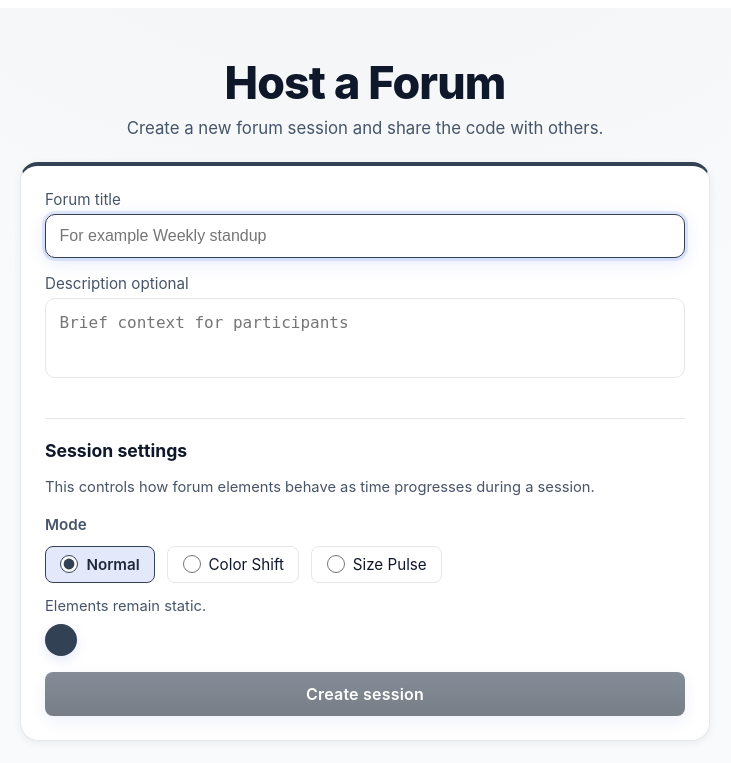
Scenario: Host Page › updates mode description when selecting modes
Click the radio button showing "colorShift": (192, 564) [182, 555, 200, 573]
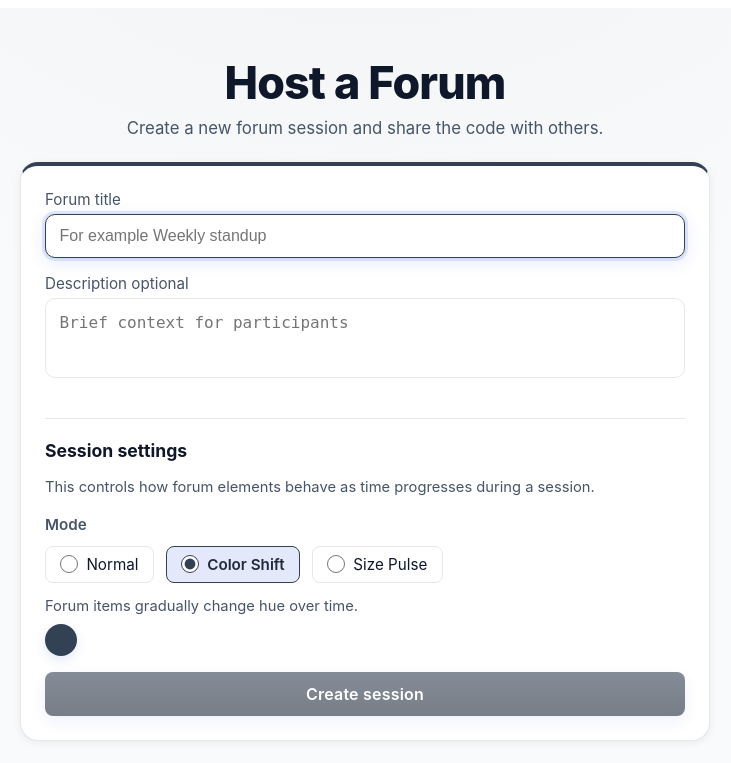
Expected: the text "Forum items gradually change hue over time." is shown, [45, 597, 358, 615]
Click the radio button showing "sizePulse": (336, 564) [327, 555, 345, 573]
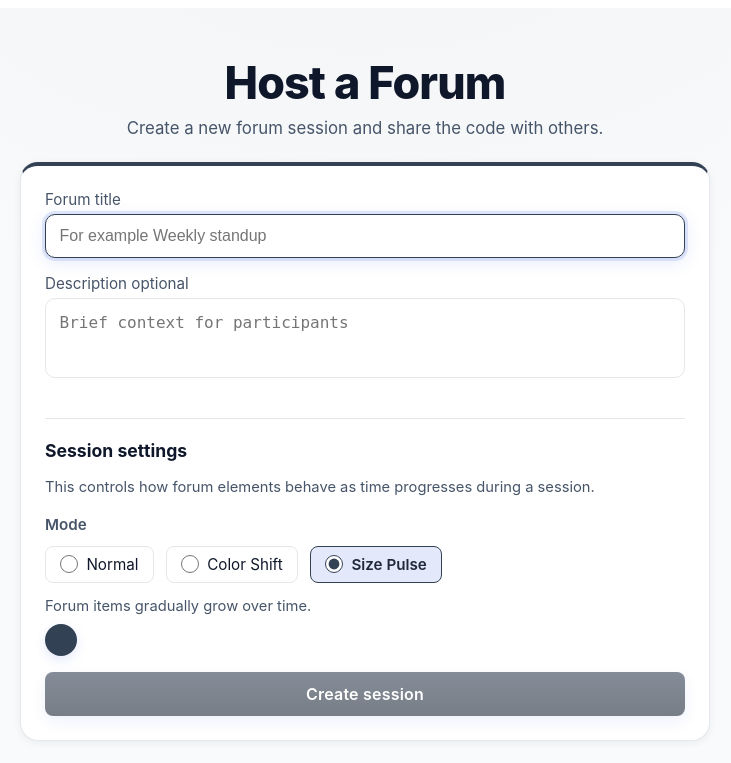
Expected: the text "Forum items gradually grow over time." is shown, [45, 597, 311, 615]
